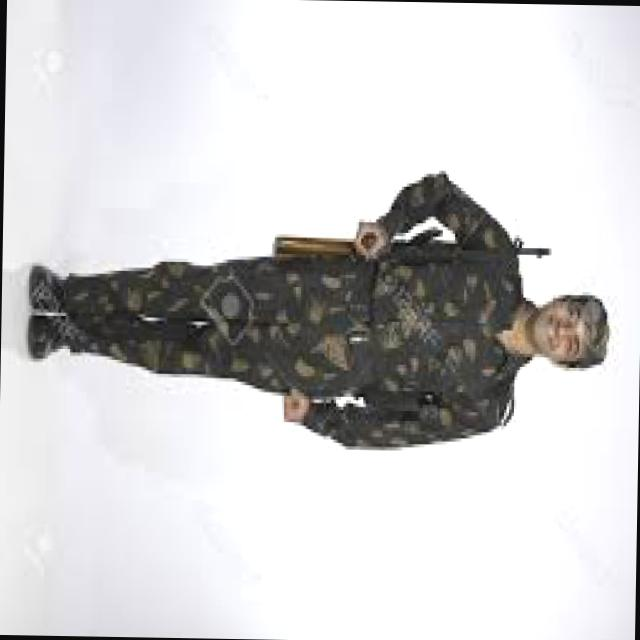long weapon: (231, 214, 560, 300)
